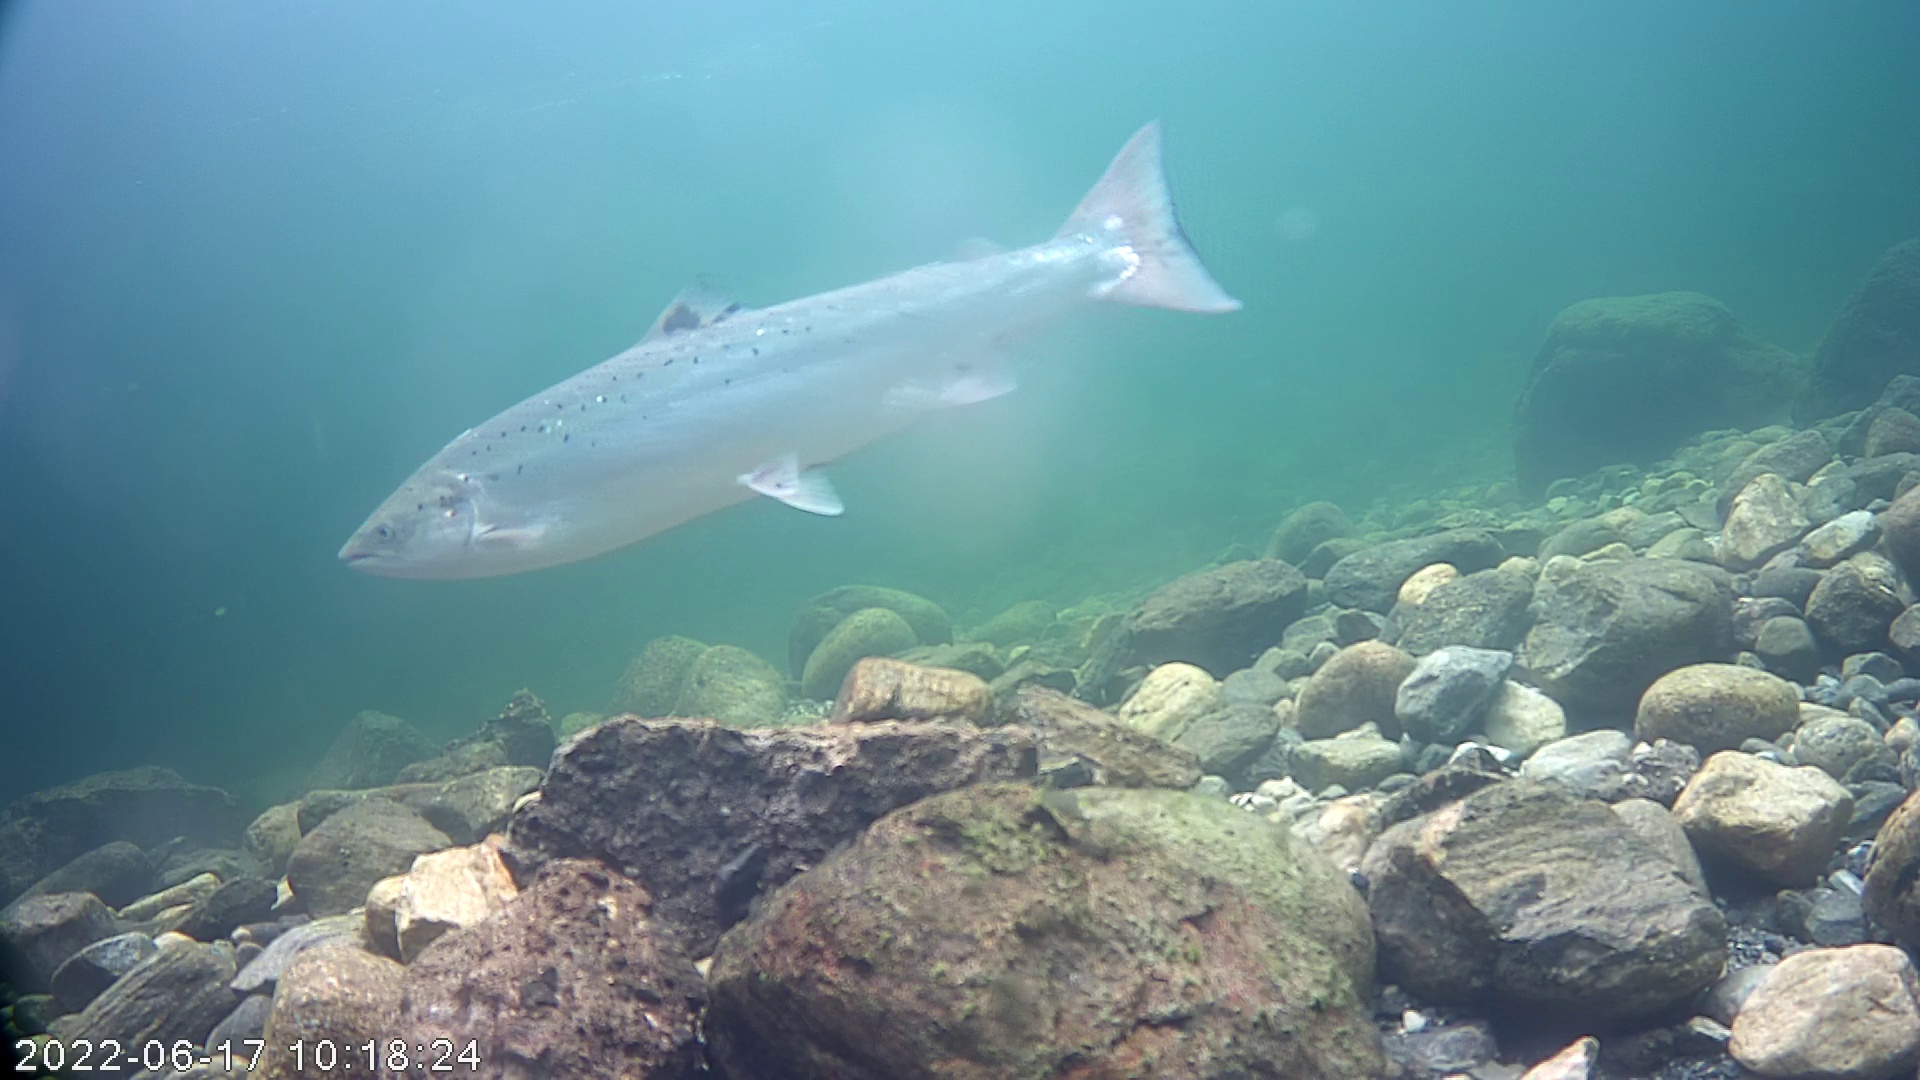salmon: (335, 111, 1247, 584)
